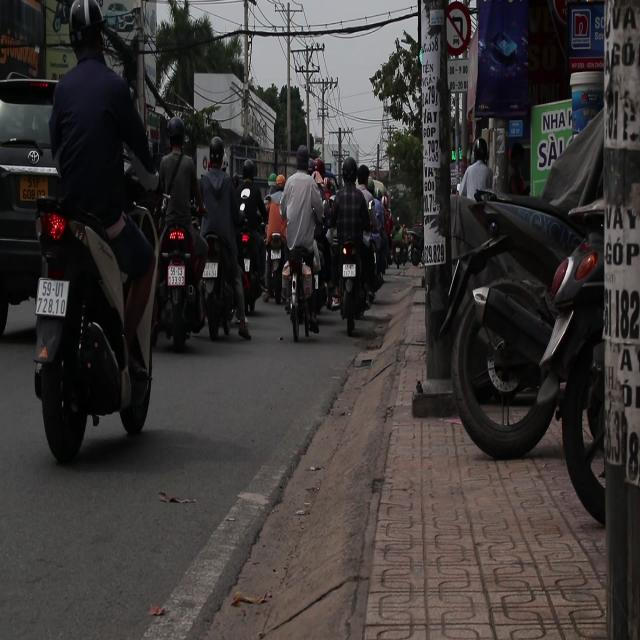car: (0, 69, 58, 339)
motorbike: (29, 200, 150, 457), (190, 194, 248, 360), (329, 221, 395, 344), (153, 219, 207, 349), (223, 211, 264, 344)
